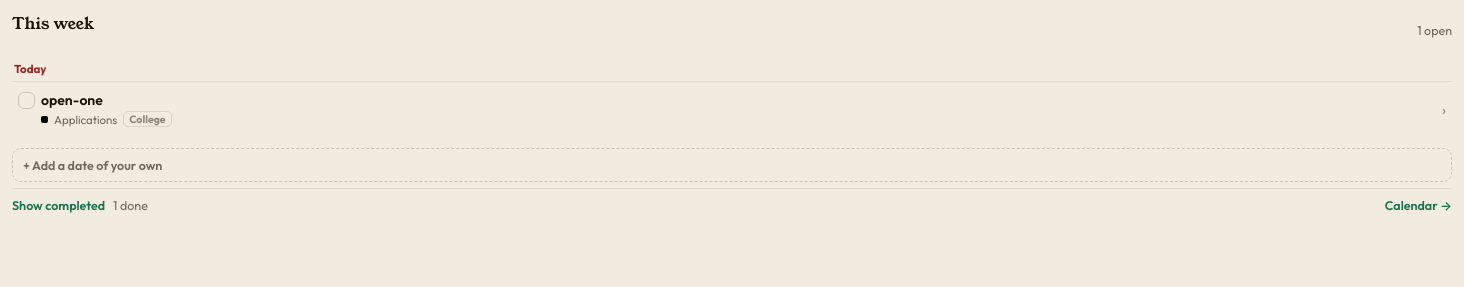
Test case: DeadlinePanel › hides completed deadlines until asked for them
Check: the text "done-one" is not shown
Check: the text "1 open" is shown, box [1417, 22, 1452, 38]
Click the button "Show completed": [58, 205] box [12, 197, 105, 213]
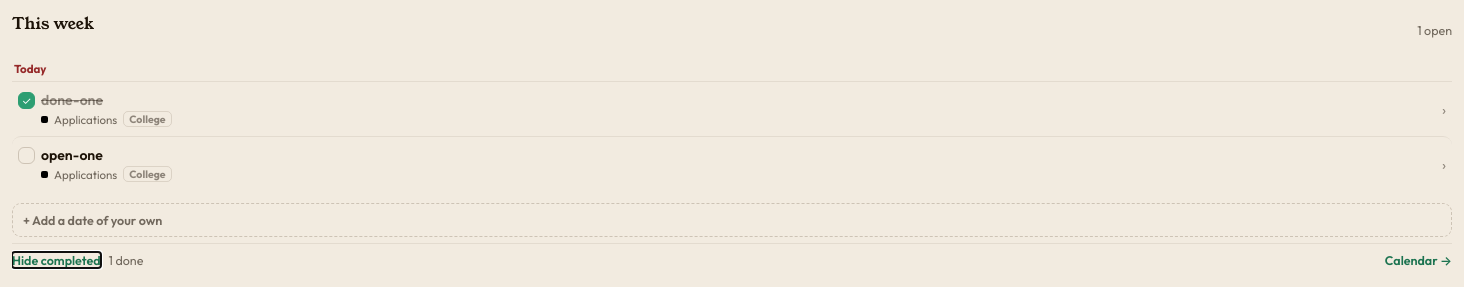
Check: the text "done-one" is shown, box [41, 91, 103, 109]
